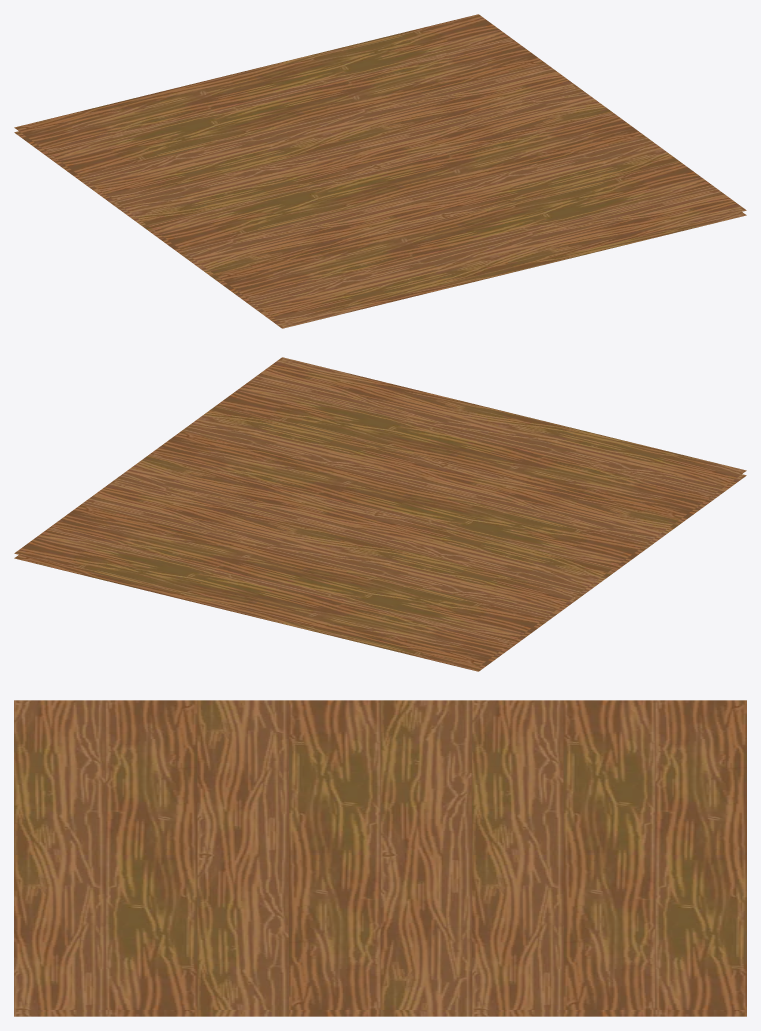
Rendered from mv_floor_wood.glb.
3 renders of one model, top to bottom at view 1: azimuth 30°, elevation 25°; view 2: azimuth 150°, elevation 25°; view 3: azimuth 270°, elevation 25°, orthographic. The views are drawn at different scales.
Visible parts, largest first — view 1: Floor_WoodLight; view 2: Floor_WoodLight; view 3: Floor_WoodLight.
Part boxes in pixels (x1=…): Floor_WoodLight: x1=14, y1=14, x2=746, y2=328; Floor_WoodLight: x1=14, y1=357, x2=746, y2=671; Floor_WoodLight: x1=14, y1=700, x2=746, y2=1016.
Bounding box in the file's own units: 2 × 0.02 × 2.
Materials: 1 (1 with a texture image).
